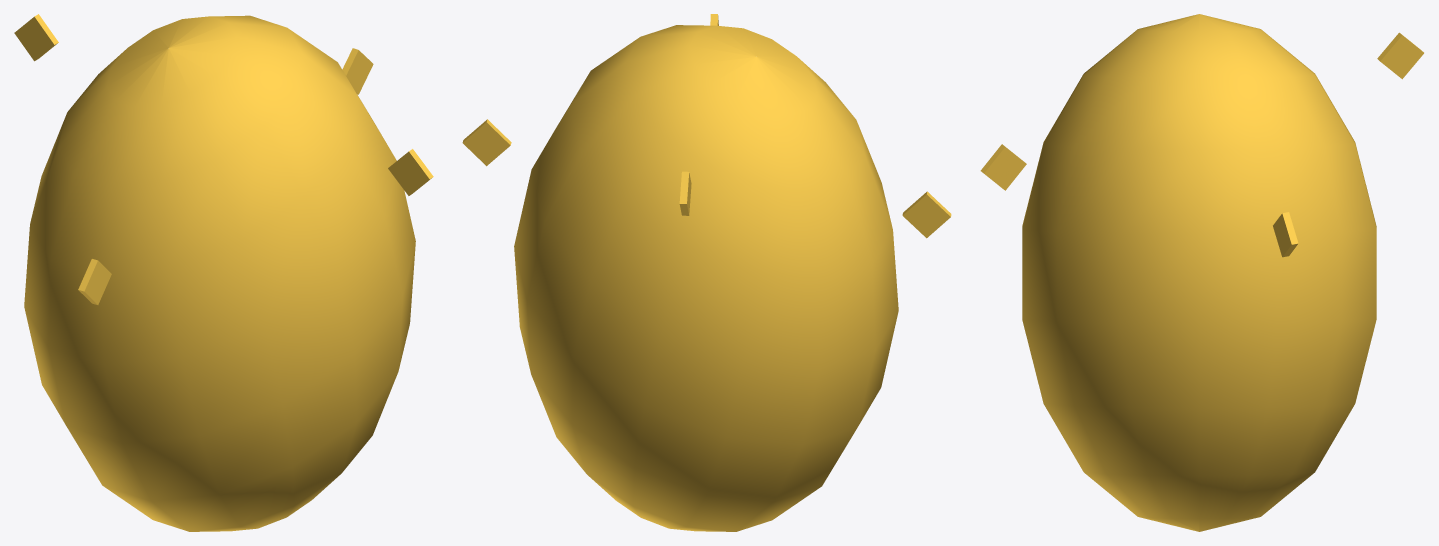
File: fruit-mango-gold.gltf
3 views of the same model, side by side, from view 1: azimuth 30°, elevation 25°; view 2: azimuth 150°, elevation 25°; view 3: azimuth 270°, elevation 25° (orthographic).
Bounding box in the file's own units: 0.4388 × 0.5274 × 0.433.
